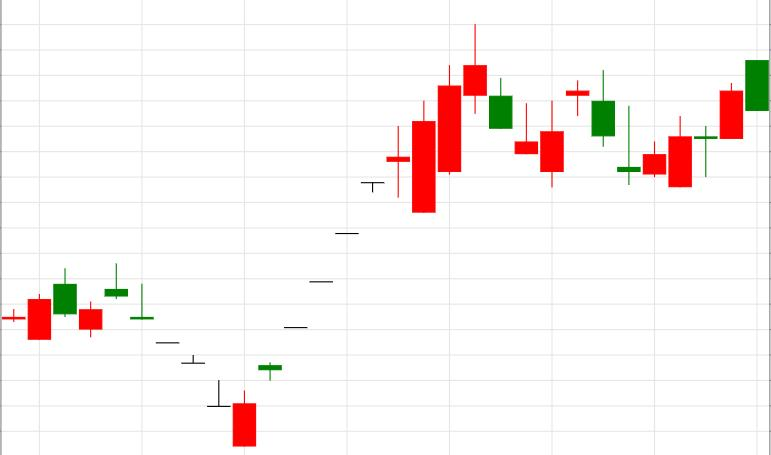shooting_star_fall: (233, 24, 487, 446)
